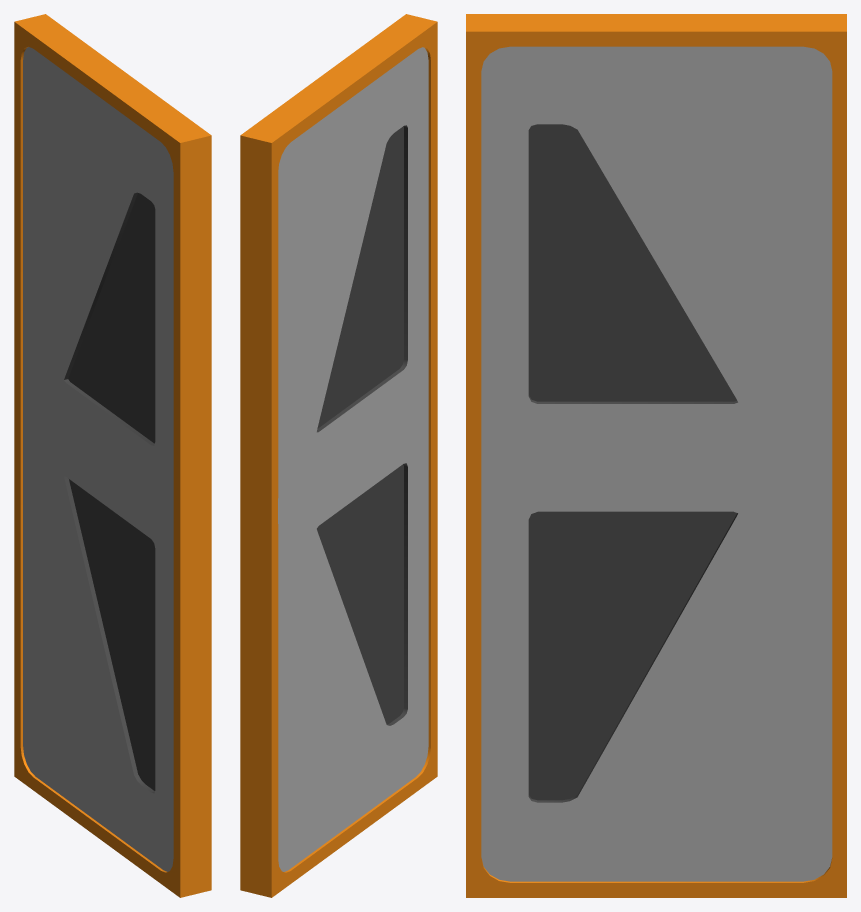
Rendered from Door.fbx.
3 renders of one model, left to right at view 1: azimuth 30°, elevation 25°; view 2: azimuth 150°, elevation 25°; view 3: azimuth 270°, elevation 25°, orthographic. The views are drawn at different scales.
Parts seen in each view (by area): view 1: SM_Door; view 2: SM_Door; view 3: SM_Door.
Boxes of the visible parts, left/top/right/bottom form: SM_Door: left=14, top=14, right=211, bottom=897; SM_Door: left=240, top=14, right=437, bottom=897; SM_Door: left=466, top=14, right=846, bottom=897.
Bounding box in the file's own units: 10 × 229 × 91.35.
